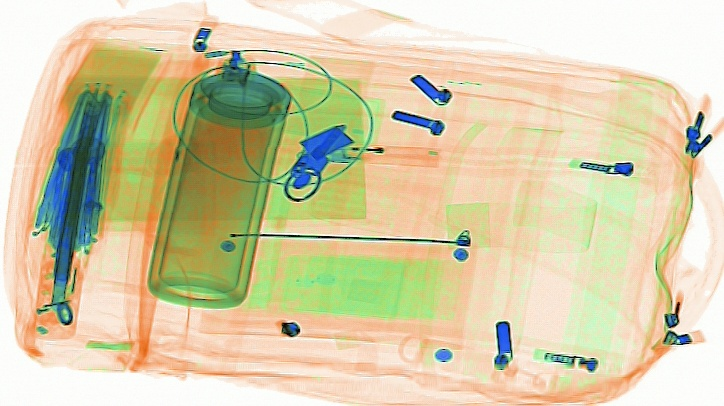lighter: (324, 138, 438, 166)
